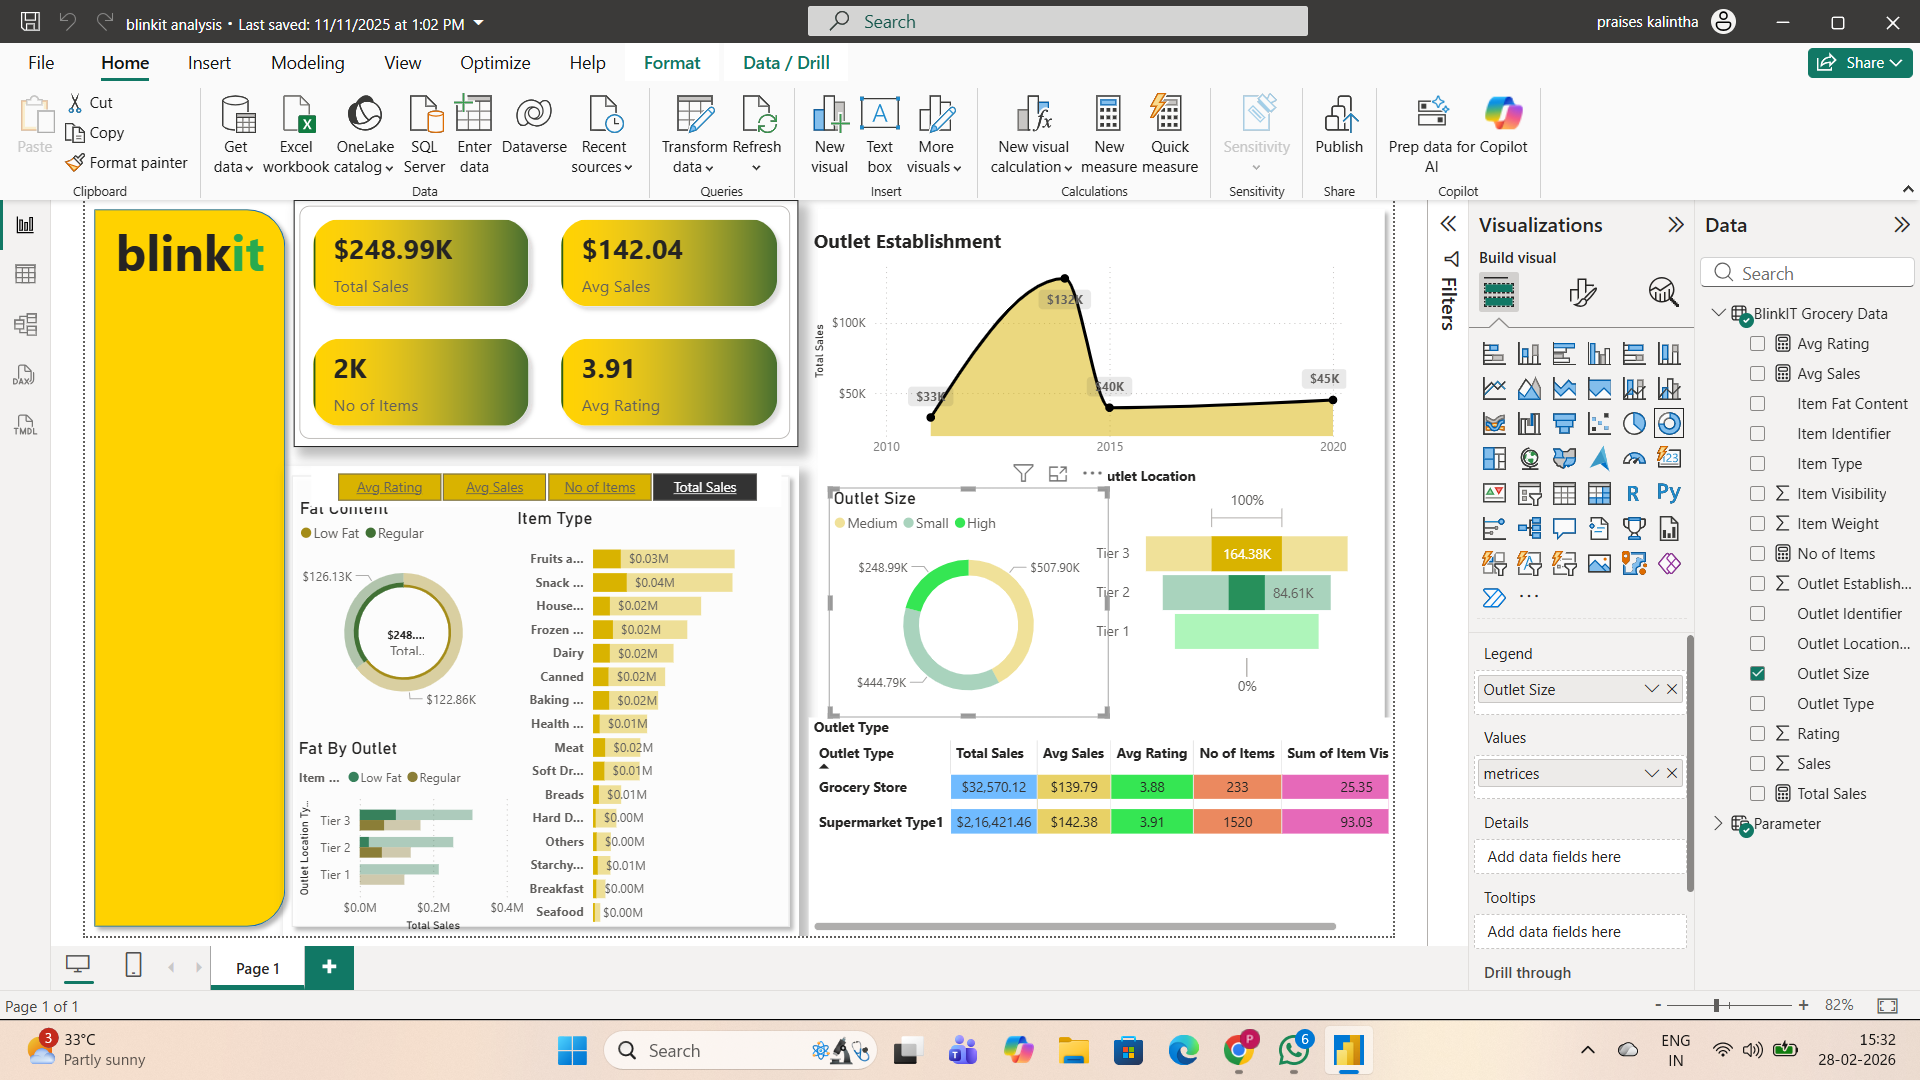

The page's visual inventory and layout, read from the dashboard file:
{"tool":"powerbi","page":{"name":"Page 1","canvas":[1280,720],"ordinal":0},"visuals":[{"type":"shape","box":[0,0,205,720],"z":0},{"type":"textbox","box":[12.3,12.3,181.1,78.2],"z":1000},{"type":"cardVisual","fields":{"Data":["BlinkIT Grocery Data.Total Sales","BlinkIT Grocery Data.Avg Sales","BlinkIT Grocery Data.No of Items","BlinkIT Grocery Data.Avg Rating"]},"box":[204.5,0,494,241.5],"z":2000},{"type":"shape","box":[193.5,260.7,505,459.7],"z":3000},{"type":"donutChart","title":"Fat Content","fields":{"Y":["BlinkIT Grocery Data.Total Sales"],"Category":["BlinkIT Grocery Data.Item Fat Content"]},"box":[205.8,290.9,212.7,219.6],"z":4000},{"type":"slicer","fields":{"Values":["Parameter.Parameter"]},"box":[220.9,260.7,459.7,39.8],"z":5000},{"type":"cardVisual","fields":{"Data":["BlinkIT Grocery Data.Total Sales"]},"box":[275.8,400.7,72.7,49.4],"z":6000},{"type":"clusteredBarChart","title":"Fat By Outlet","fields":{"Y":["BlinkIT Grocery Data.Total Sales"],"Category":["BlinkIT Grocery Data.Outlet Location Type"],"Series":["BlinkIT Grocery Data.Item Fat Content"]},"box":[204.5,525.6,230.5,194.9],"z":7000},{"type":"barChart","title":"Item Type","fields":{"Y":["BlinkIT Grocery Data.Total Sales"],"Category":["BlinkIT Grocery Data.Item Type"]},"box":[418.5,300.5,263.5,419.9],"z":8000},{"type":"shape","box":[708.1,0,572.2,720.4],"z":9000},{"type":"lineChart","title":"Outlet Establishment ","fields":{"Category":["BlinkIT Grocery Data.Outlet Establishment Year"],"Y":["BlinkIT Grocery Data.Total Sales"]},"box":[708.1,27.4,531,233.3],"z":10000},{"type":"donutChart","title":"Outlet Size","fields":{"Y":["BlinkIT Grocery Data.Total Sales"],"Category":["BlinkIT Grocery Data.Outlet Size"]},"box":[727.3,281.3,274,225],"z":11000},{"type":"funnel","title":"Outlet Location","fields":{"Y":["Sum(BlinkIT Grocery Data.Sales)"],"Category":["BlinkIT Grocery Data.Outlet Location Type"]},"box":[983.9,260.7,261,230],"z":12000},{"type":"pivotTable","title":"Outlet Type","fields":{"Rows":["BlinkIT Grocery Data.Outlet Type"],"Values":["BlinkIT Grocery Data.Total Sales","BlinkIT Grocery Data.Avg Sales","BlinkIT Grocery Data.Avg Rating","BlinkIT Grocery Data.No of Items","Sum(BlinkIT Grocery Data.Item Visibility)"]},"box":[708.1,506.3,572.2,214.1],"z":13000}]}

Visuals, with their boxes on the page's 1280x720 design canvas (x1, y1, x2, y2). These are canvas units, not pixel positions in the 1920x1080 screenshot, which may show the page scaled, cropped or inside an application window:
shape: (0,0,205,720)
textbox: (12,12,193,90)
cardVisual - BlinkIT Grocery Data.Total Sales x BlinkIT Grocery Data.Avg Sales: (204,0,698,242)
shape: (194,261,698,720)
"Fat Content" donutChart: (206,291,418,510)
slicer - Parameter.Parameter: (221,261,681,300)
cardVisual - BlinkIT Grocery Data.Total Sales: (276,401,348,450)
"Fat By Outlet" clusteredBarChart: (204,526,435,720)
"Item Type" barChart: (418,300,682,720)
shape: (708,0,1280,720)
"Outlet Establishment " lineChart: (708,27,1239,261)
"Outlet Size" donutChart: (727,281,1001,506)
"Outlet Location" funnel: (984,261,1245,491)
"Outlet Type" pivotTable: (708,506,1280,720)
